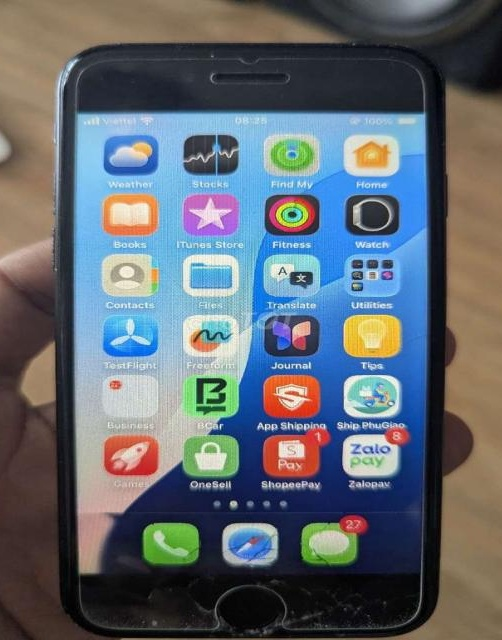scratch: (109, 583, 403, 632), (324, 34, 417, 64), (195, 42, 226, 62)
